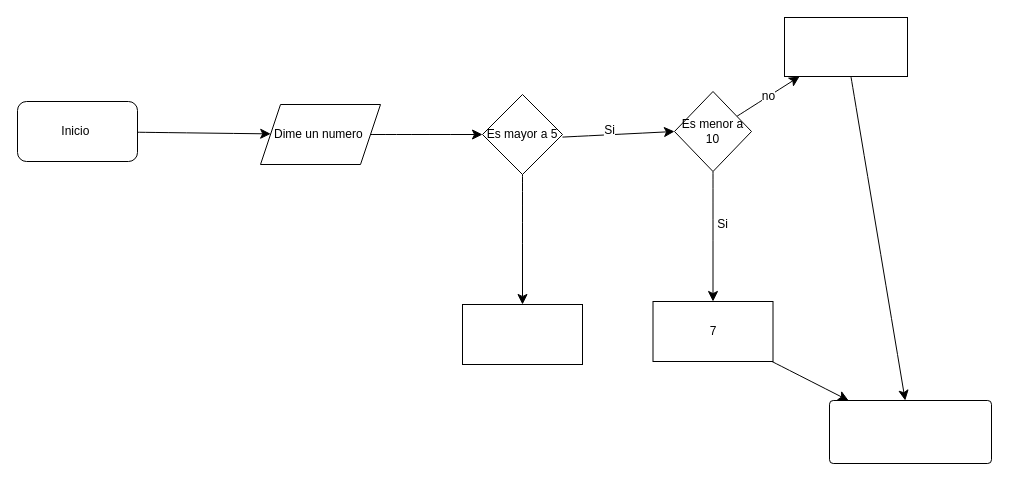
Image size: 1009x481. Some labels were removed from this diagram. Here are the shapes that lost their labels. From the top down, the centre of each, then its label:
At pixel 846 46: "error".
At pixel 522 334: "Fuera de rango".
At pixel 910 432: "Fin".
